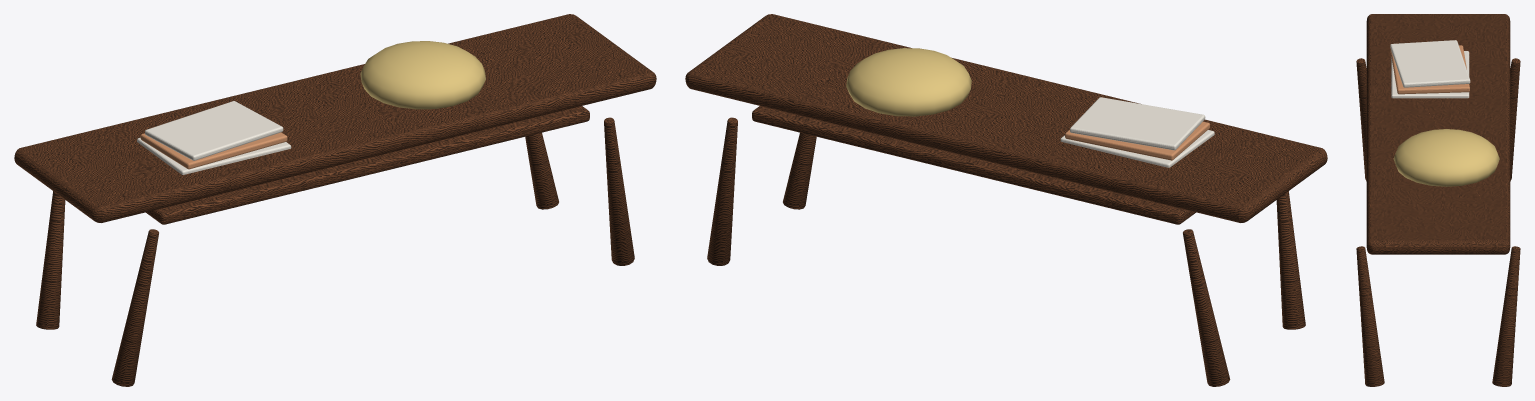
The model's file is interior-prop-coffee-table.glb.
The picture shows the model from 3 angles, left to right: view 1: azimuth 30°, elevation 25°; view 2: azimuth 150°, elevation 25°; view 3: azimuth 270°, elevation 25°; orthographic projection. The views are drawn at different scales.
Visible parts, largest first — view 1: coffee-table-top, coffee-table-apron, coffee-table-bowl, coffee-table-book-2, coffee-table-leg-0, coffee-table-leg-1, coffee-table-leg-2, coffee-table-leg-3, coffee-table-book-1, coffee-table-book-0; view 2: coffee-table-top, coffee-table-apron, coffee-table-bowl, coffee-table-book-2, coffee-table-leg-2, coffee-table-leg-3, coffee-table-leg-0, coffee-table-leg-1, coffee-table-book-1, coffee-table-book-0; view 3: coffee-table-top, coffee-table-bowl, coffee-table-book-2, coffee-table-leg-1, coffee-table-leg-3, coffee-table-book-1, coffee-table-leg-0, coffee-table-leg-2, coffee-table-book-0.
Part boxes in pixels (x1,y1,x2,y2): coffee-table-top: (14,14,656,222); coffee-table-apron: (146,106,589,224); coffee-table-bowl: (360,41,485,109); coffee-table-book-2: (145,101,283,160); coffee-table-leg-0: (111,229,158,386); coffee-table-leg-1: (604,117,634,265); coffee-table-leg-2: (36,191,65,329); coffee-table-leg-3: (525,132,558,209); coffee-table-book-1: (140,132,287,169); coffee-table-book-0: (137,137,291,174); coffee-table-top: (685,14,1327,222); coffee-table-apron: (752,106,1195,224); coffee-table-bowl: (846,48,971,116); coffee-table-book-2: (1070,97,1205,150); coffee-table-leg-2: (1183,229,1230,386); coffee-table-leg-3: (707,117,737,265); coffee-table-leg-0: (1276,191,1305,329); coffee-table-leg-1: (783,132,816,209); coffee-table-book-1: (1065,121,1209,160); coffee-table-book-0: (1060,130,1214,167); coffee-table-top: (1366,14,1510,254); coffee-table-bowl: (1393,129,1499,186); coffee-table-book-2: (1390,40,1470,87); coffee-table-leg-1: (1356,246,1384,386); coffee-table-leg-3: (1492,246,1520,386); coffee-table-book-1: (1390,45,1469,94); coffee-table-leg-0: (1356,58,1366,181); coffee-table-leg-2: (1510,58,1520,181); coffee-table-book-0: (1391,51,1469,98).
Bounding box in the file's own units: 1.34 × 0.4916 × 0.4011.
4 materials, 1 textured.
